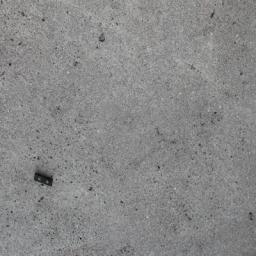FOD: (31, 170, 59, 192)
